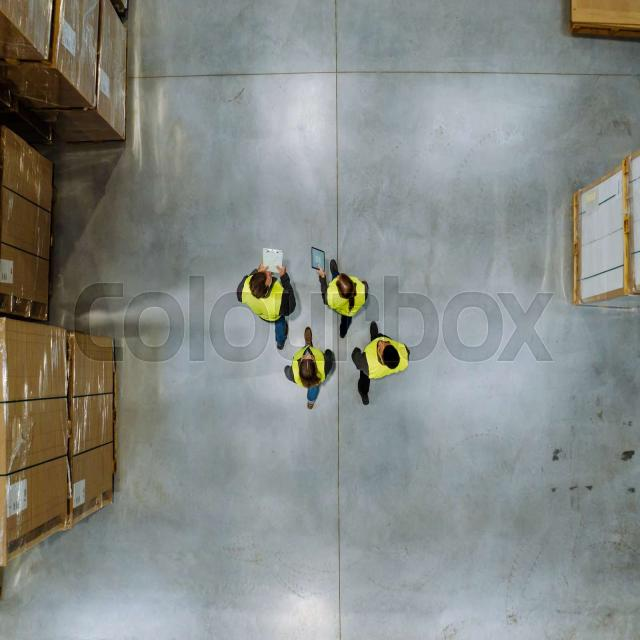box: (2, 322, 69, 397), (578, 194, 625, 299), (58, 2, 98, 110), (5, 130, 61, 202), (101, 5, 131, 139), (9, 473, 70, 536), (5, 407, 70, 466), (3, 194, 56, 255), (0, 0, 51, 60), (72, 328, 115, 391), (1, 250, 52, 303), (71, 461, 117, 508), (74, 400, 115, 445)
